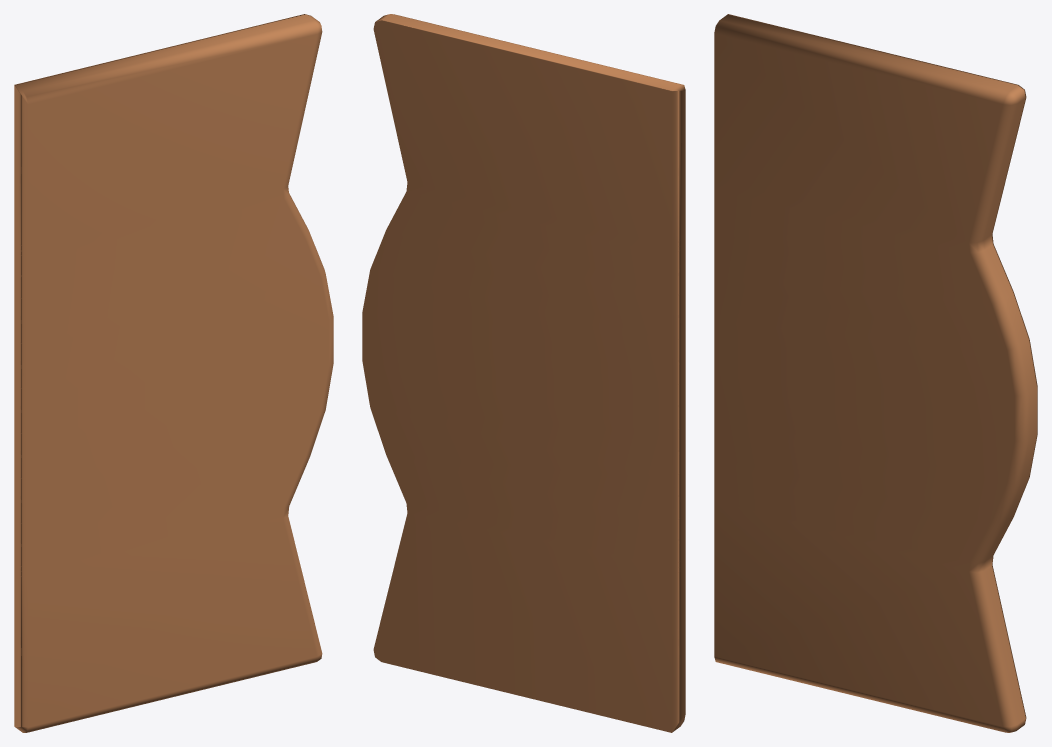
File: mazeDoor1_model.glb
The picture shows the model from 3 angles, left to right: view 1: azimuth 30°, elevation 25°; view 2: azimuth 150°, elevation 25°; view 3: azimuth 330°, elevation 25°; orthographic projection.
Visible parts, largest first — view 1: mazeDoor1_t9; view 2: mazeDoor1_t9; view 3: mazeDoor1_t9.
Boxes of the visible parts, x1=… form: mazeDoor1_t9: x1=14, y1=14, x2=333, y2=732; mazeDoor1_t9: x1=362, y1=14, x2=685, y2=732; mazeDoor1_t9: x1=714, y1=14, x2=1037, y2=732.
Size of what is drawn, in the model's own units: 1.04 by 2.06 by 0.0815.
